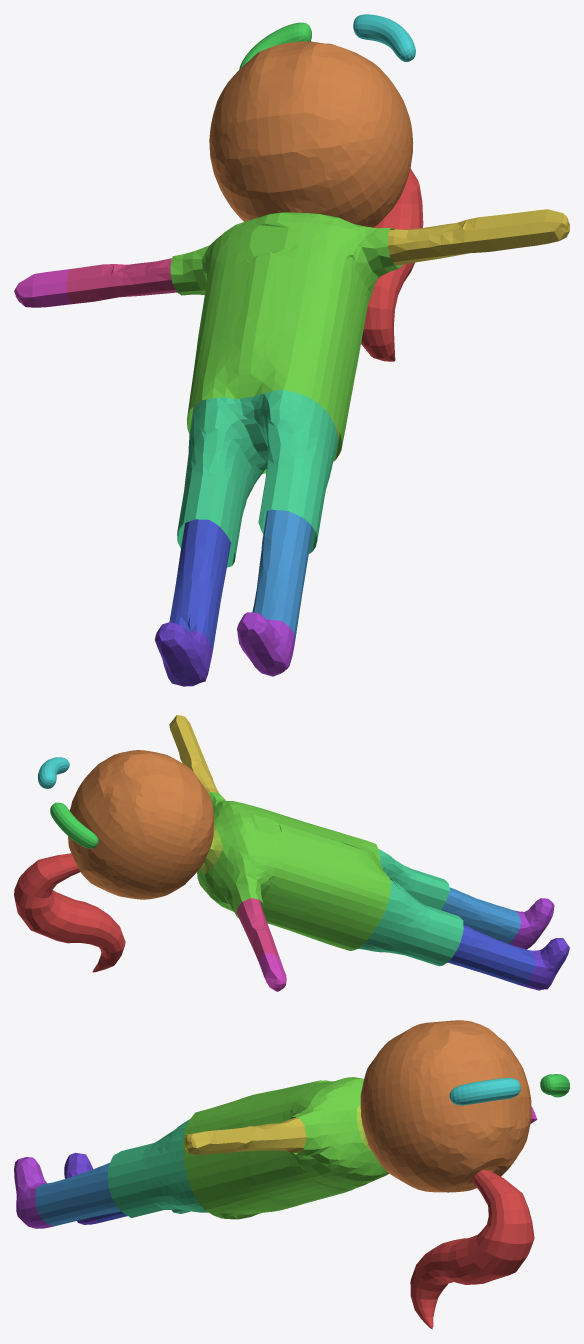
File: seg_figure_partfield.glb
3 renders of one model, top to bottom at view 1: azimuth 30°, elevation 25°; view 2: azimuth 150°, elevation 25°; view 3: azimuth 270°, elevation 25°, orthographic. The views are drawn at different scales.
Parts seen in each view (by area): view 1: world; view 2: world; view 3: world.
Part boxes in pixels (x1,y1,x2,y2): world: (14,14,569,686); world: (14,715,569,991); world: (14,1020,569,1329).
Bounding box in the file's own units: 1.39 × 1.04 × 1.56.
